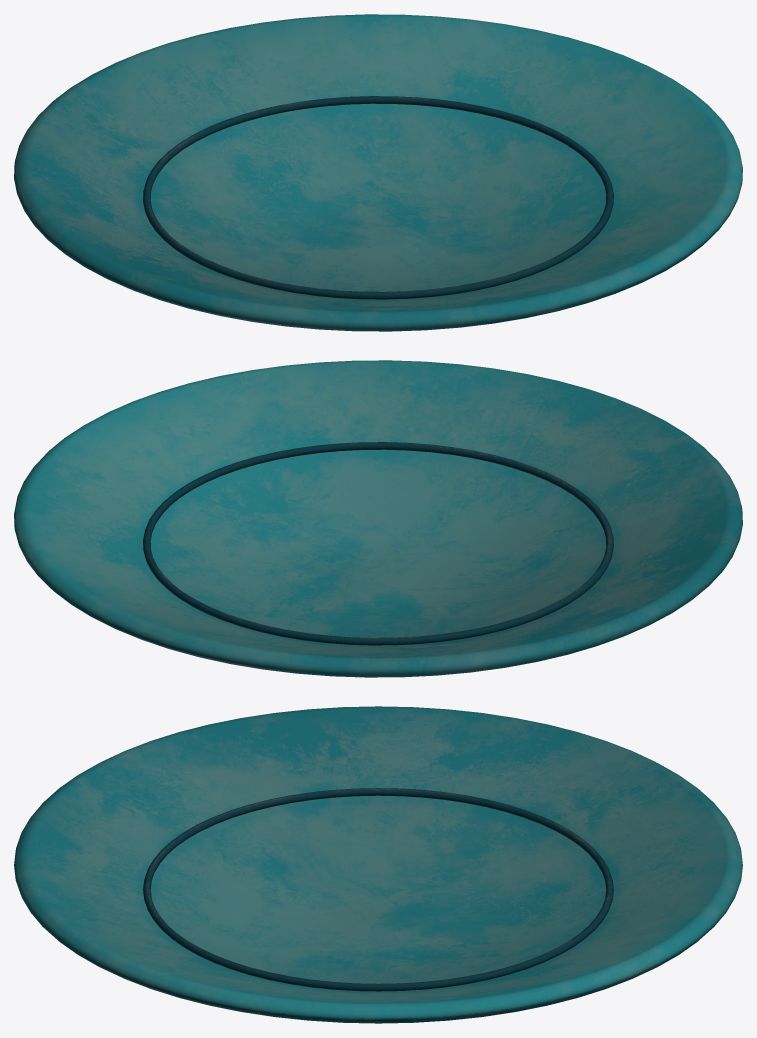
Rendered from SM_Prop01_Plato_Santiago_Garcia.fbx.
3 renders of one model, top to bottom at view 1: azimuth 30°, elevation 25°; view 2: azimuth 150°, elevation 25°; view 3: azimuth 270°, elevation 25°, orthographic.
Parts seen in each view (by area): view 1: Plato | cuerpo, Aro interior; view 2: Plato | cuerpo, Aro interior; view 3: Plato | cuerpo, Aro interior.
Boxes of the visible parts, <box> form: Plato | cuerpo: <box>14,14,742,331</box>; Aro interior: <box>143,96,613,299</box>; Plato | cuerpo: <box>14,360,742,677</box>; Aro interior: <box>143,442,613,645</box>; Plato | cuerpo: <box>14,706,742,1023</box>; Aro interior: <box>143,788,613,991</box>.
Size of the model in its own units: 227 by 33.57 by 227.
Materials: 3 (3 with a texture image).
